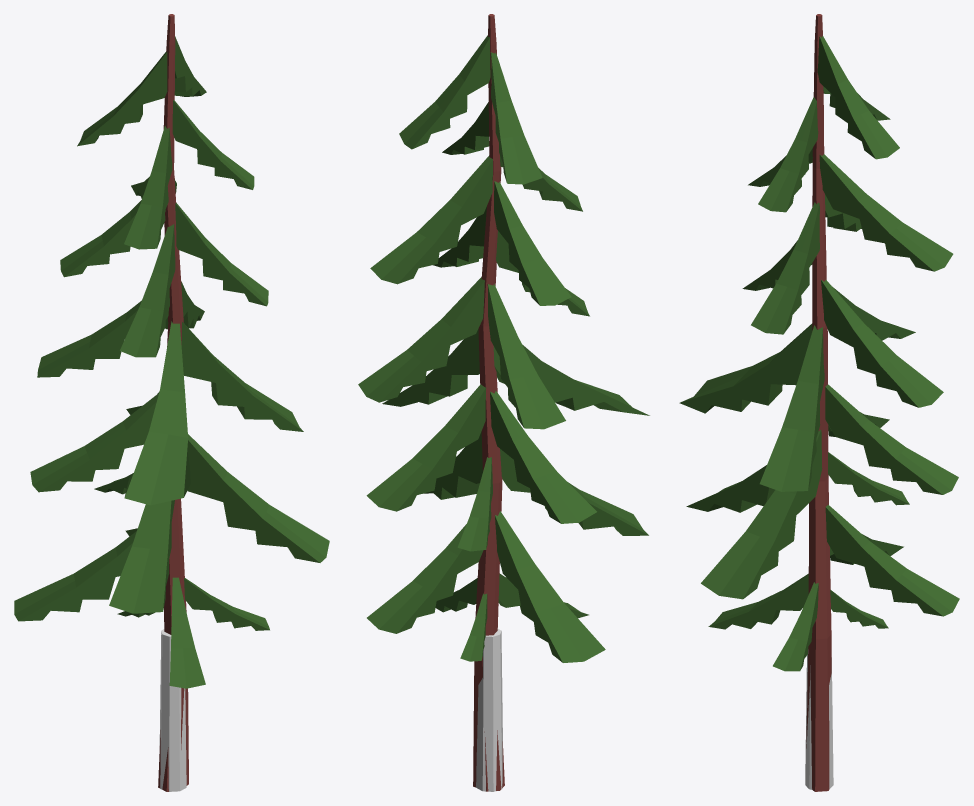
Rendered from floresta_tree_pine_medium.glb.
3 renders of one model, left to right at view 1: azimuth 30°, elevation 25°; view 2: azimuth 150°, elevation 25°; view 3: azimuth 270°, elevation 25°, orthographic.
Parts seen in each view (by area): view 1: Pine middle f, Colisao; view 2: Pine middle f, Colisao; view 3: Pine middle f, Colisao.
Boxes of the visible parts, bbox=[...] form: Pine middle f: bbox=[14, 14, 329, 791]; Colisao: bbox=[159, 629, 186, 791]; Pine middle f: bbox=[358, 14, 649, 791]; Colisao: bbox=[476, 629, 502, 791]; Pine middle f: bbox=[679, 14, 959, 791]; Colisao: bbox=[805, 649, 833, 789].
Size of the model in its own units: 7.8 by 22.63 by 7.49.
